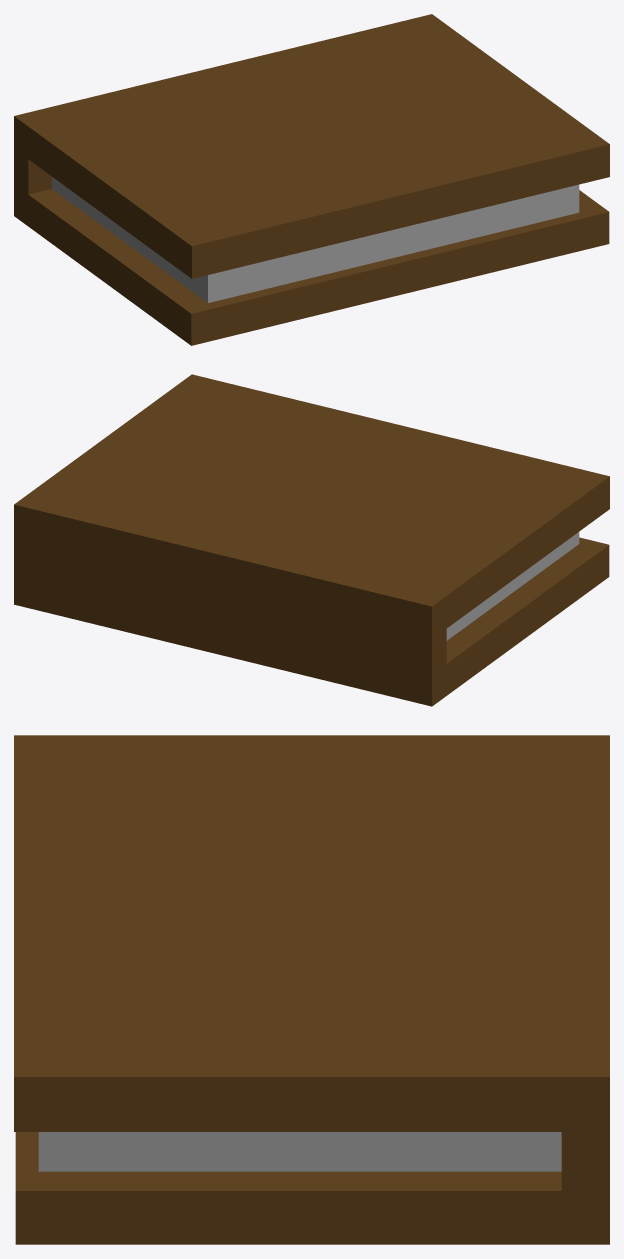
File: Notebook.fbx
3 views of the same model, one above another, from view 1: azimuth 30°, elevation 25°; view 2: azimuth 150°, elevation 25°; view 3: azimuth 270°, elevation 25° (orthographic). The views are drawn at different scales.
Visible parts, largest first — view 1: pCube1, pCube2; view 2: pCube1, pCube2; view 3: pCube1, pCube2.
Part boxes in pixels (<box>): pCube1: <box>14,14,609,345</box>; pCube2: <box>52,177,579,302</box>; pCube1: <box>14,374,609,706</box>; pCube2: <box>446,532,579,640</box>; pCube1: <box>14,735,609,1244</box>; pCube2: <box>38,1132,561,1171</box>.
Size of the model in its own units: 4.23 by 0.9674 by 3.12.
